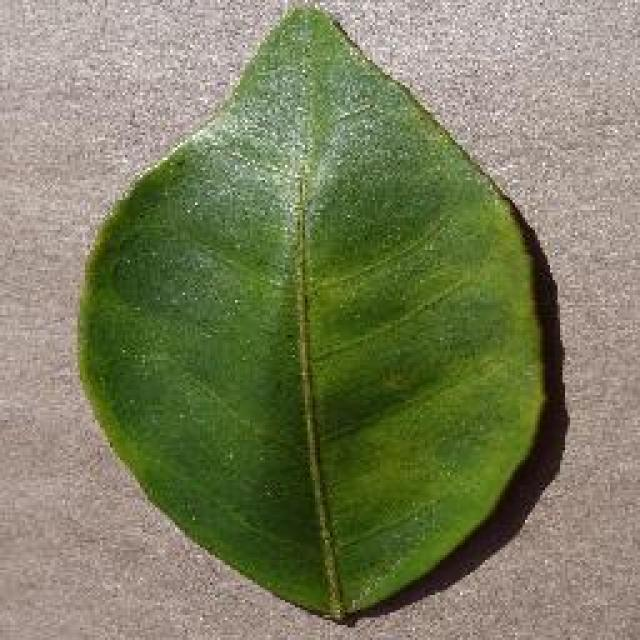Orange_Haunglongbing_Citrus_greening: (127, 104, 525, 546)
